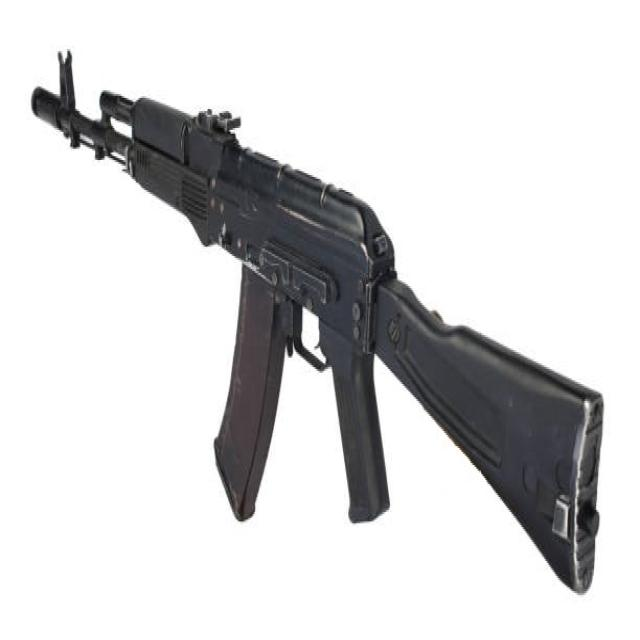rifle: (28, 32, 614, 604)
